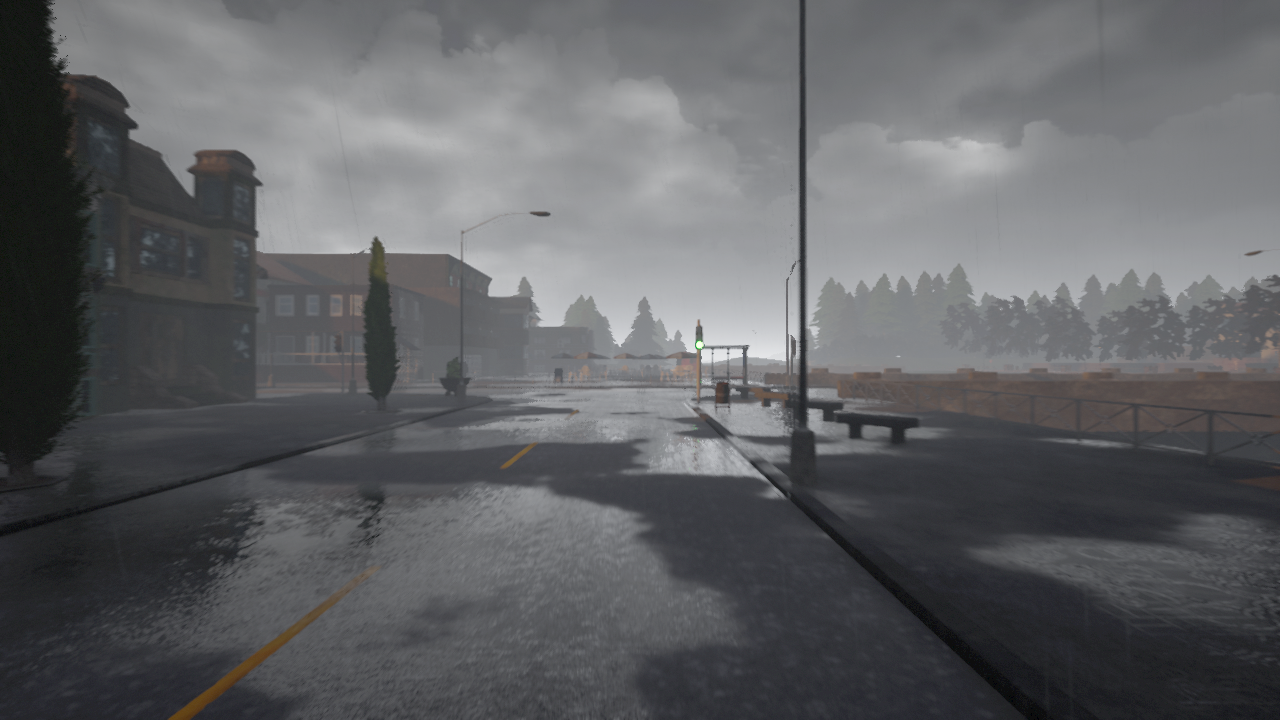green: (695, 325, 704, 350)
